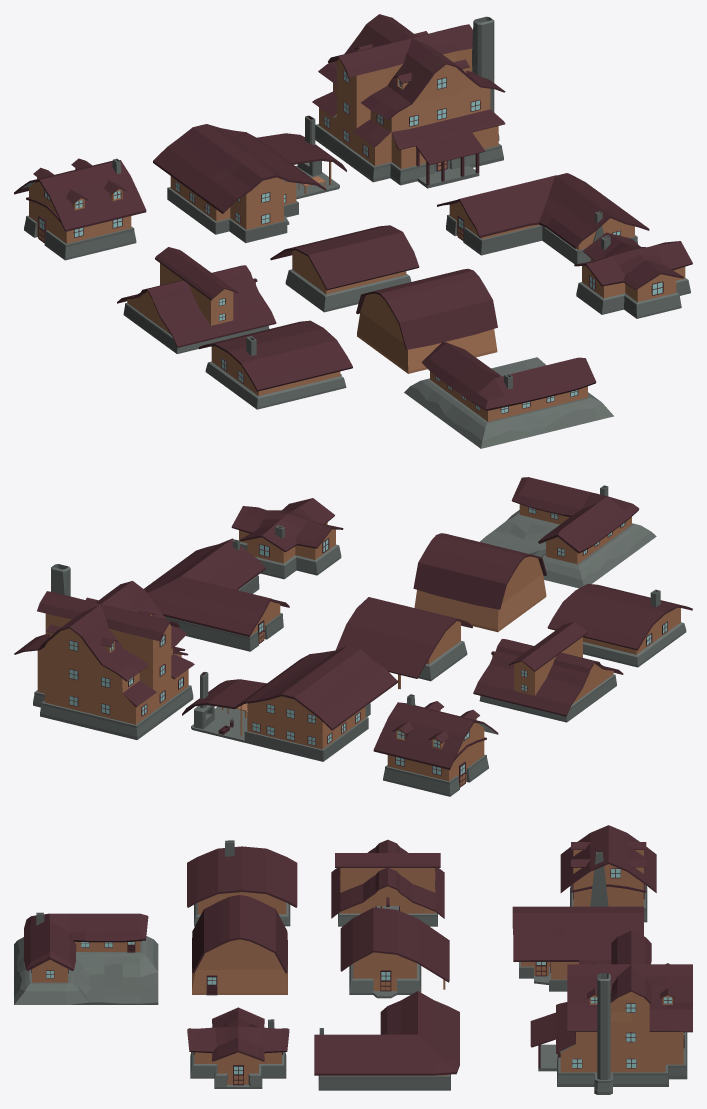
Rendered from Housefinished.fbx.
The picture shows the model from 3 angles, top to bottom: view 1: azimuth 30°, elevation 25°; view 2: azimuth 150°, elevation 25°; view 3: azimuth 270°, elevation 25°; orthographic projection. The views are drawn at different scales.
Parts seen in each view (by area): view 1: House, House3, Plane.002, HunterHut, Plane.001, Tavern, House2, Plane, Plane.003, House3.001; view 2: House, House3, Plane.002, HunterHut, Plane.001, Tavern, House2, Plane, Plane.003, House3.001; view 3: House, Plane.002, HunterHut, Plane.001, House3, Plane.003, Tavern, House2, House3.001, Plane.
Part boxes in pixels (x1,y1,x2,y2): House: (312,14,505,188); House3: (153,115,346,243); Plane.002: (404,342,613,448); HunterHut: (437,173,649,264); Plane.001: (356,268,497,373); Tavern: (117,247,276,353); House2: (14,158,146,260); Plane: (198,320,352,409); Plane.003: (270,225,419,312); House3.001: (574,232,692,318); House: (14,564,194,739); House3: (182,646,397,761); Plane.002: (480,477,656,588); HunterHut: (144,538,289,651); Plane.001: (413,533,546,632); Tavern: (473,621,623,722); House2: (373,694,498,796); Plane: (547,584,692,667); Plane.003: (336,597,472,689); House3.001: (231,498,343,579); House: (530,930,692,1094); Plane.002: (14,912,158,1004); HunterHut: (314,991,459,1090); Plane.001: (192,895,287,995); House3: (512,906,643,991); Plane.003: (340,907,449,998); Tavern: (331,839,444,926); House2: (560,825,656,922); House3.001: (187,1007,289,1088); Plane: (187,840,297,926).
Size of the model in its own units: 5216 by 1342 by 7058.
